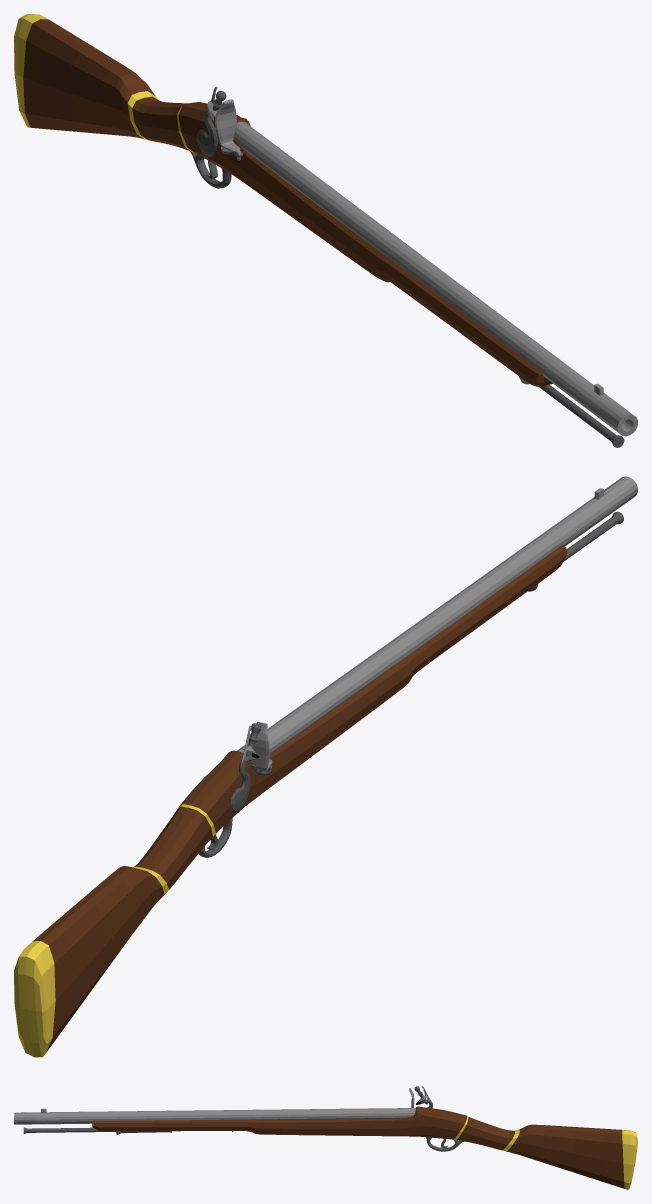
Rendered from mosquete.fbx.
The picture shows the model from 3 angles, top to bottom: view 1: azimuth 30°, elevation 25°; view 2: azimuth 150°, elevation 25°; view 3: azimuth 270°, elevation 25°; orthographic projection. The views are drawn at different scales.
Parts seen in each view (by area): view 1: mosquete; view 2: mosquete; view 3: mosquete.
Part boxes in pixels (x1=…): mosquete: x1=14, y1=14, x2=637, y2=447; mosquete: x1=14, y1=476, x2=637, y2=1057; mosquete: x1=14, y1=1086, x2=637, y2=1189.
Size of the model in its own units: 15.33 by 63.43 by 363.
